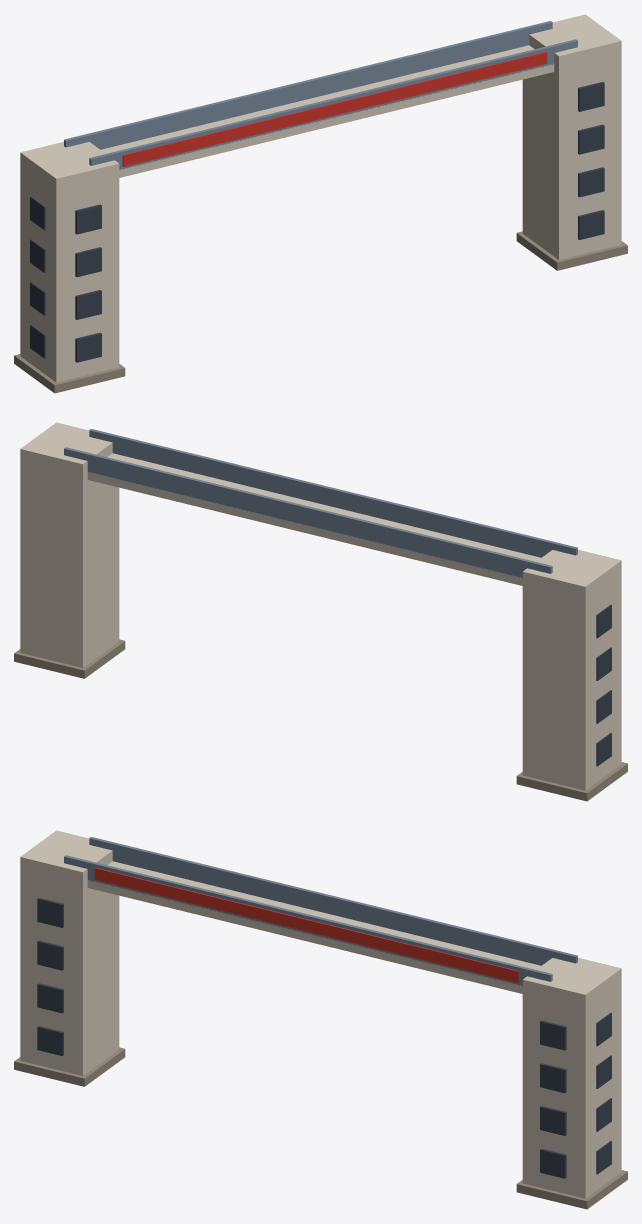
File: footbridge.glb
3 renders of one model, top to bottom at view 1: azimuth 30°, elevation 25°; view 2: azimuth 150°, elevation 25°; view 3: azimuth 330°, elevation 25°, orthographic.
Visible parts, largest first — view 1: footbridge_concrete, footbridge_steel, footbridge_steelDark, footbridge_red, footbridge_concreteDark; view 2: footbridge_concrete, footbridge_steel, footbridge_concreteDark, footbridge_steelDark; view 3: footbridge_concrete, footbridge_steel, footbridge_steelDark, footbridge_red, footbridge_concreteDark.
Boxes of the visible parts, left/top/right/bottom form: footbridge_concrete: left=20, top=14, right=621, bottom=382; footbridge_steel: left=64, top=21, right=577, bottom=169; footbridge_steelDark: left=30, top=82, right=604, bottom=362; footbridge_red: left=122, top=51, right=547, bottom=166; footbridge_concreteDark: left=14, top=231, right=627, bottom=393; footbridge_concrete: left=20, top=422, right=621, bottom=790; footbridge_steel: left=64, top=429, right=577, bottom=578; footbridge_concreteDark: left=14, top=639, right=627, bottom=801; footbridge_steelDark: left=596, top=604, right=611, bottom=766; footbridge_concrete: left=20, top=830, right=621, bottom=1198; footbridge_steel: left=64, top=837, right=577, bottom=986; footbridge_steelDark: left=37, top=898, right=611, bottom=1178; footbridge_red: left=94, top=867, right=519, bottom=982; footbridge_concreteDark: left=14, top=1047, right=627, bottom=1209.
Bounding box in the file's own units: 36.5 × 13.3 × 4.5.
